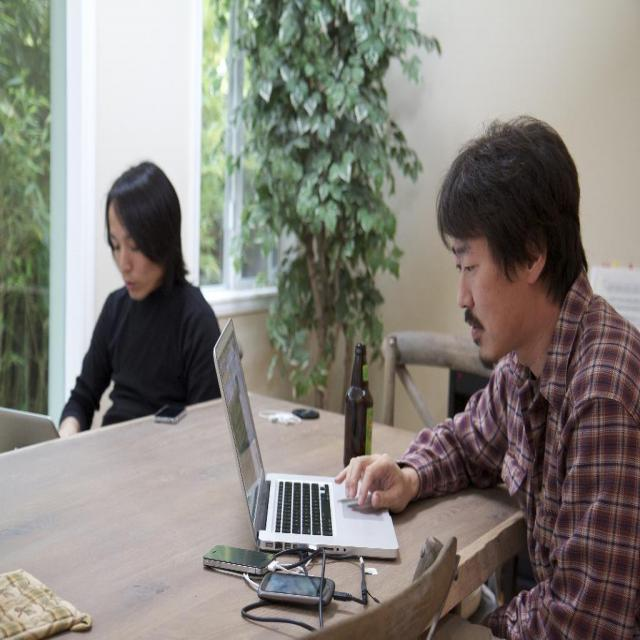table: (0, 366, 536, 639)
